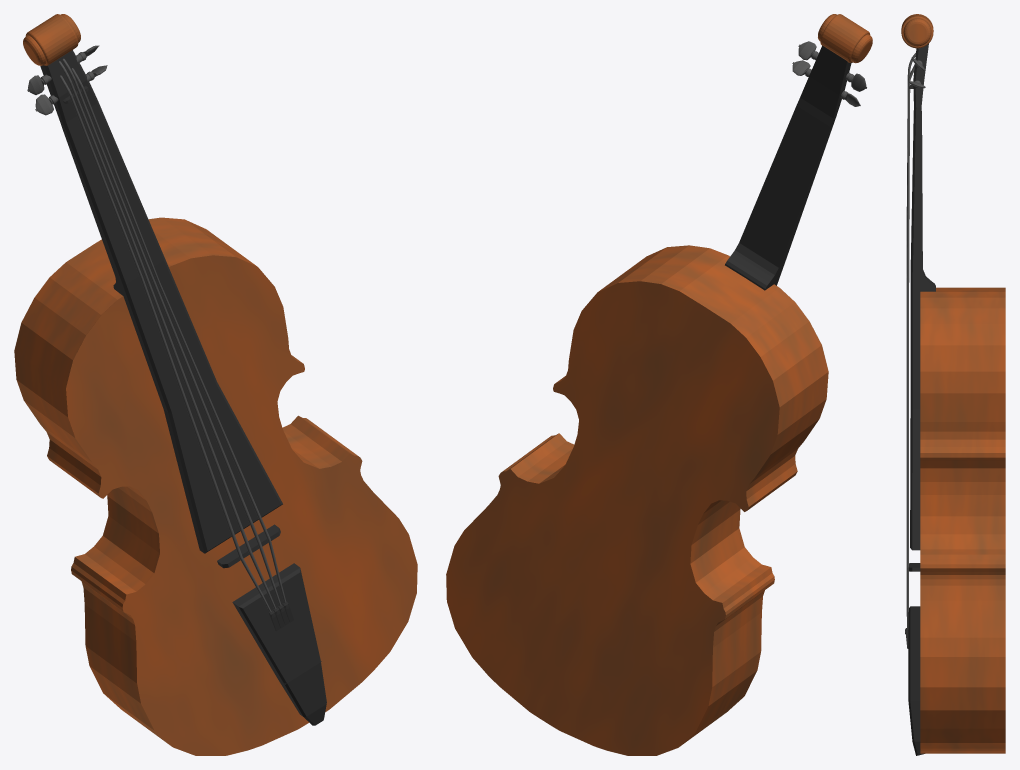
The model's file is violon.obj.
3 renders of one model, left to right at view 1: azimuth 30°, elevation 25°; view 2: azimuth 150°, elevation 25°; view 3: azimuth 270°, elevation 25°, orthographic. The views are drawn at different scales.
Parts seen in each view (by area): view 1: Cylinder.004_Cylinder.005, Cylinder.004_Cylinder.004, Cylinder.004_Cylinder.001, Cylinder.004_Cylinder.003, Cylinder.004_Cylinder.002; view 2: Cylinder.004_Cylinder.005, Cylinder.004_Cylinder.004, Cylinder.004_Cylinder.001, Cylinder.004_Cylinder.002, Cylinder.004_Cylinder.003; view 3: Cylinder.004_Cylinder.005, Cylinder.004_Cylinder.004, Cylinder.004_Cylinder.001, Cylinder.004_Cylinder.003, Cylinder.004_Cylinder.002.
Boxes of the visible parts, bbox=[...] form: Cylinder.004_Cylinder.005: bbox=[71, 415, 417, 755]; Cylinder.004_Cylinder.004: bbox=[14, 217, 304, 522]; Cylinder.004_Cylinder.001: bbox=[40, 50, 326, 725]; Cylinder.004_Cylinder.003: bbox=[27, 45, 286, 612]; Cylinder.004_Cylinder.002: bbox=[23, 14, 80, 65]; Cylinder.004_Cylinder.005: bbox=[446, 433, 774, 755]; Cylinder.004_Cylinder.004: bbox=[553, 245, 828, 534]; Cylinder.004_Cylinder.001: bbox=[725, 45, 851, 290]; Cylinder.004_Cylinder.002: bbox=[818, 14, 872, 63]; Cylinder.004_Cylinder.003: bbox=[792, 41, 866, 106]; Cylinder.004_Cylinder.005: bbox=[920, 505, 1005, 753]; Cylinder.004_Cylinder.004: bbox=[920, 287, 1005, 505]; Cylinder.004_Cylinder.001: bbox=[905, 44, 935, 755]; Cylinder.004_Cylinder.003: bbox=[906, 53, 925, 629]; Cylinder.004_Cylinder.002: bbox=[901, 14, 933, 48].
Bounding box in the file's own units: 0.9919 × 1.89 × 0.2766.
3 materials, 3 textured.
